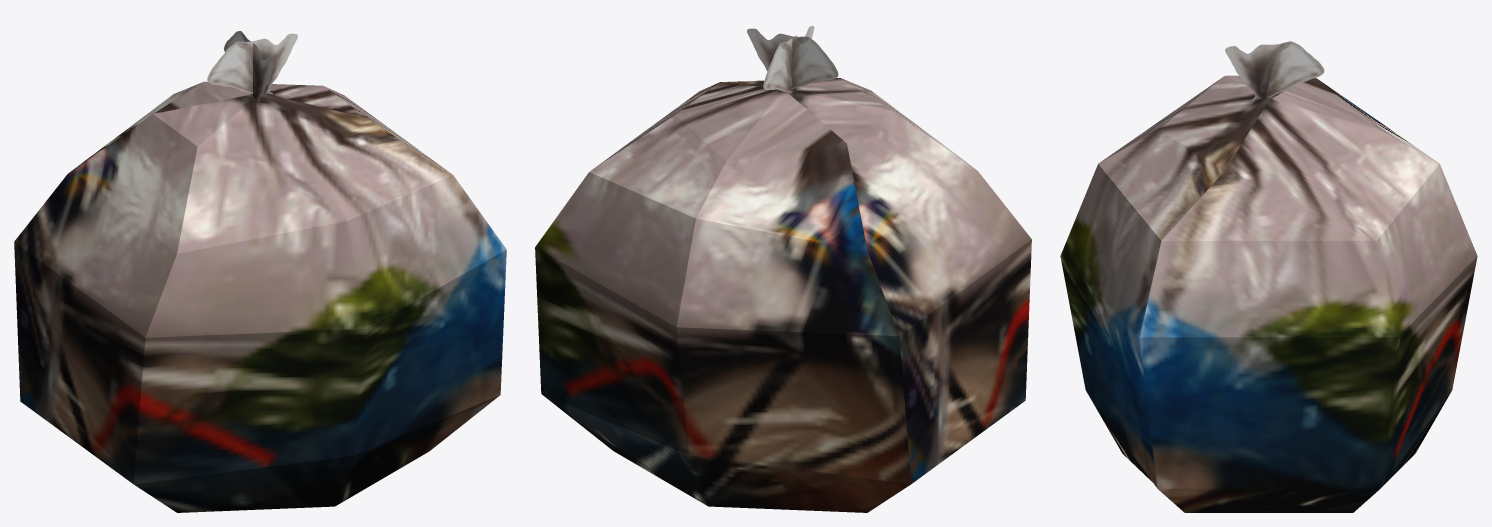
The model's file is Bag.fbx.
3 renders of one model, left to right at view 1: azimuth 30°, elevation 25°; view 2: azimuth 150°, elevation 25°; view 3: azimuth 270°, elevation 25°, orthographic. The views are drawn at different scales.
Visible parts, largest first — view 1: Sphere; view 2: Sphere; view 3: Sphere.
Boxes of the visible parts, <box> form: Sphere: <box>14,31,506,512</box>; Sphere: <box>535,26,1031,512</box>; Sphere: <box>1060,41,1477,512</box>.
Bounding box in the file's own units: 50 × 55.74 × 50.02.
